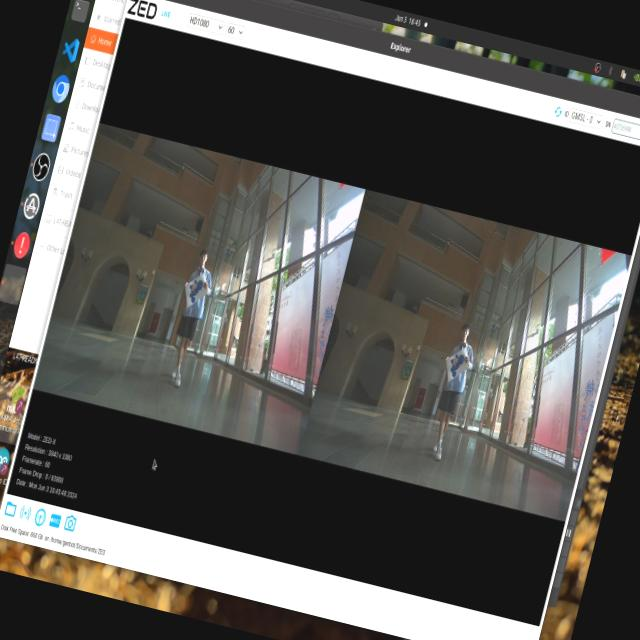blue: (441, 346, 468, 392), (179, 274, 205, 306)
